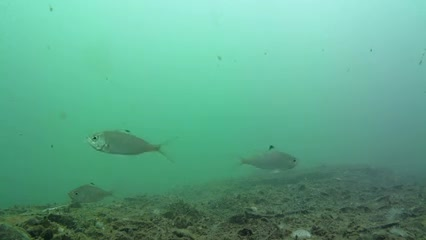smallfish: (82, 123, 179, 169), (222, 135, 302, 179), (66, 180, 116, 206)
